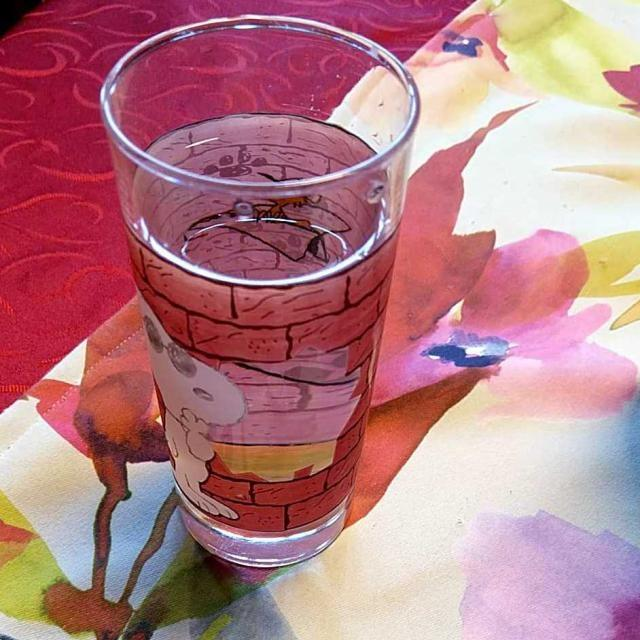water: (136, 89, 412, 553)
